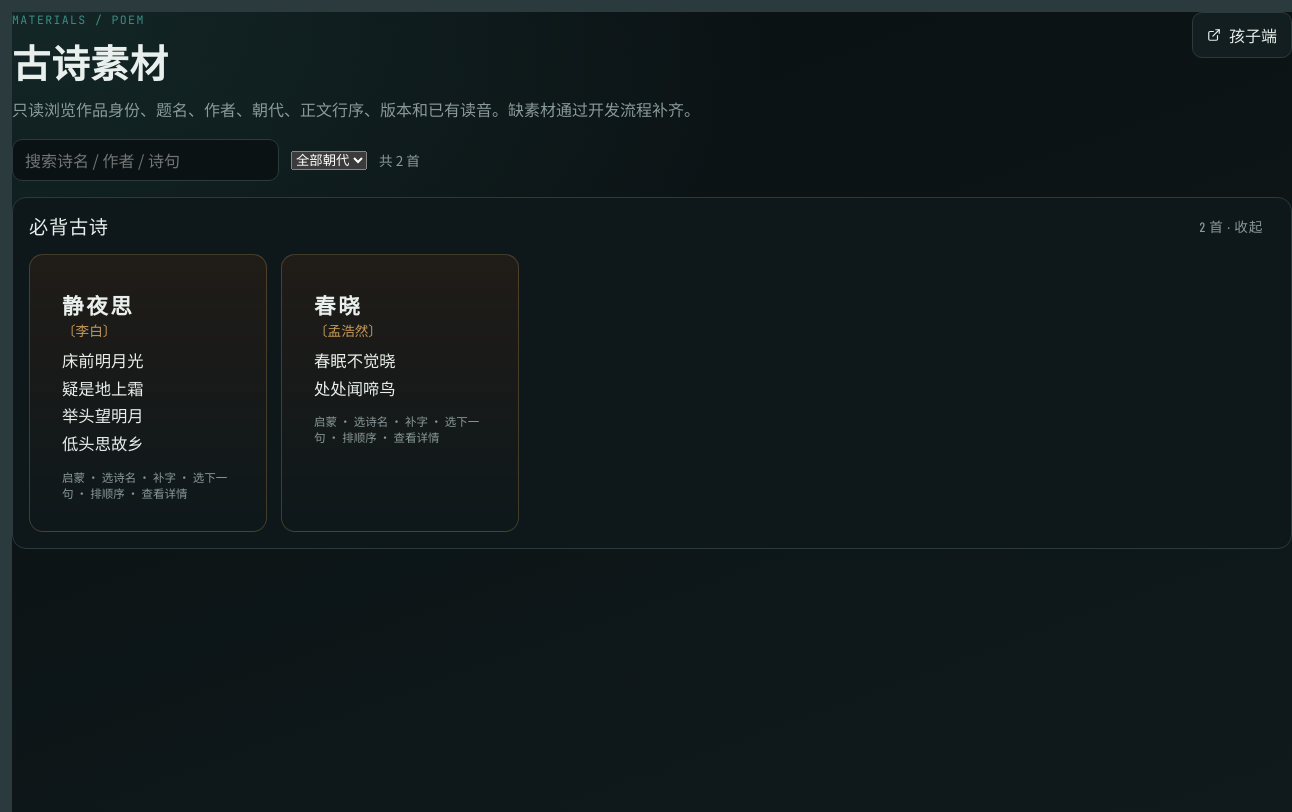
Test: PoemPage › filters poems by author or line
Expected: the heading "静夜思" is shown, [62,295,135,319]
Expected: the heading "春晓" is shown, [314,295,362,319]
Type "孟浩然" into the field with placeholder "搜索诗名 / 作者 / 诗句".
click(146, 160); type("孟浩然")  # box [12,139,279,181]
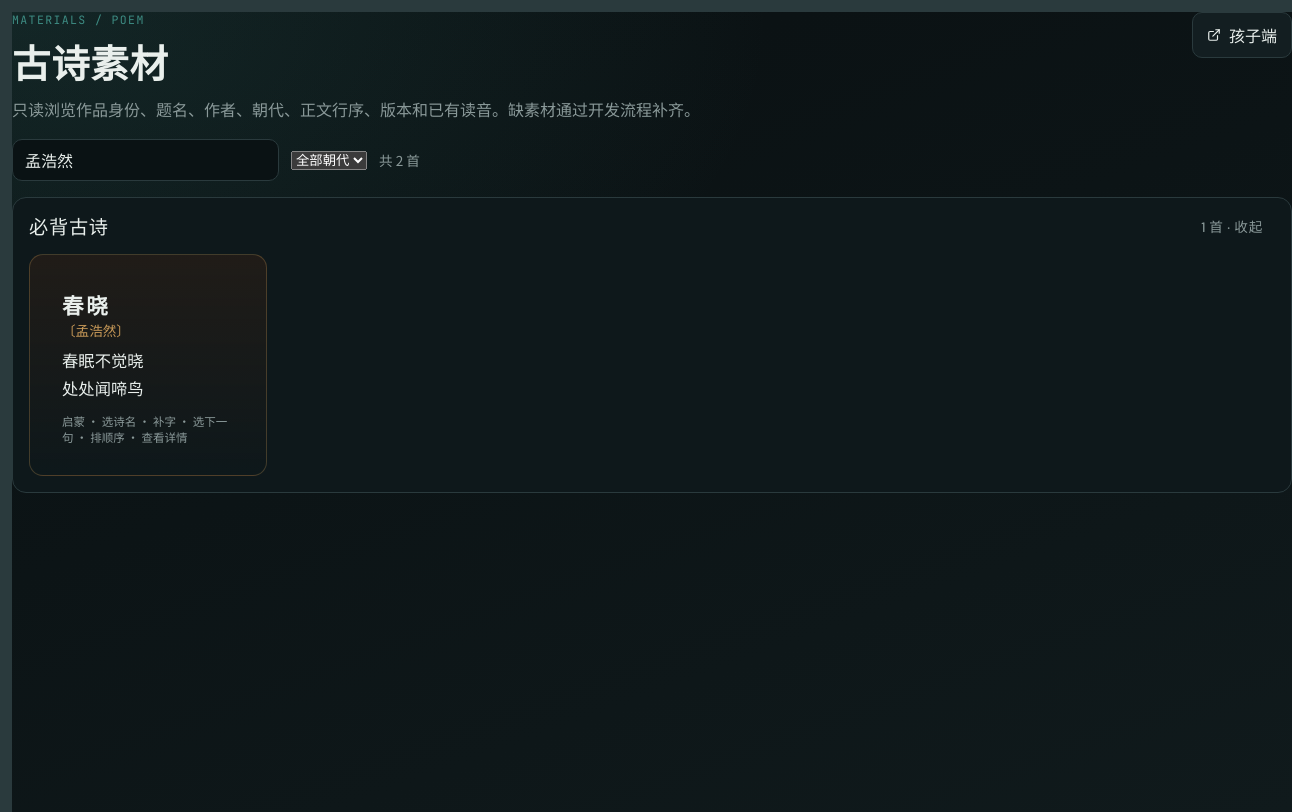
Expected: the heading "春晓" is shown, [62,295,110,319]
Expected: the button "静夜思" is gone
